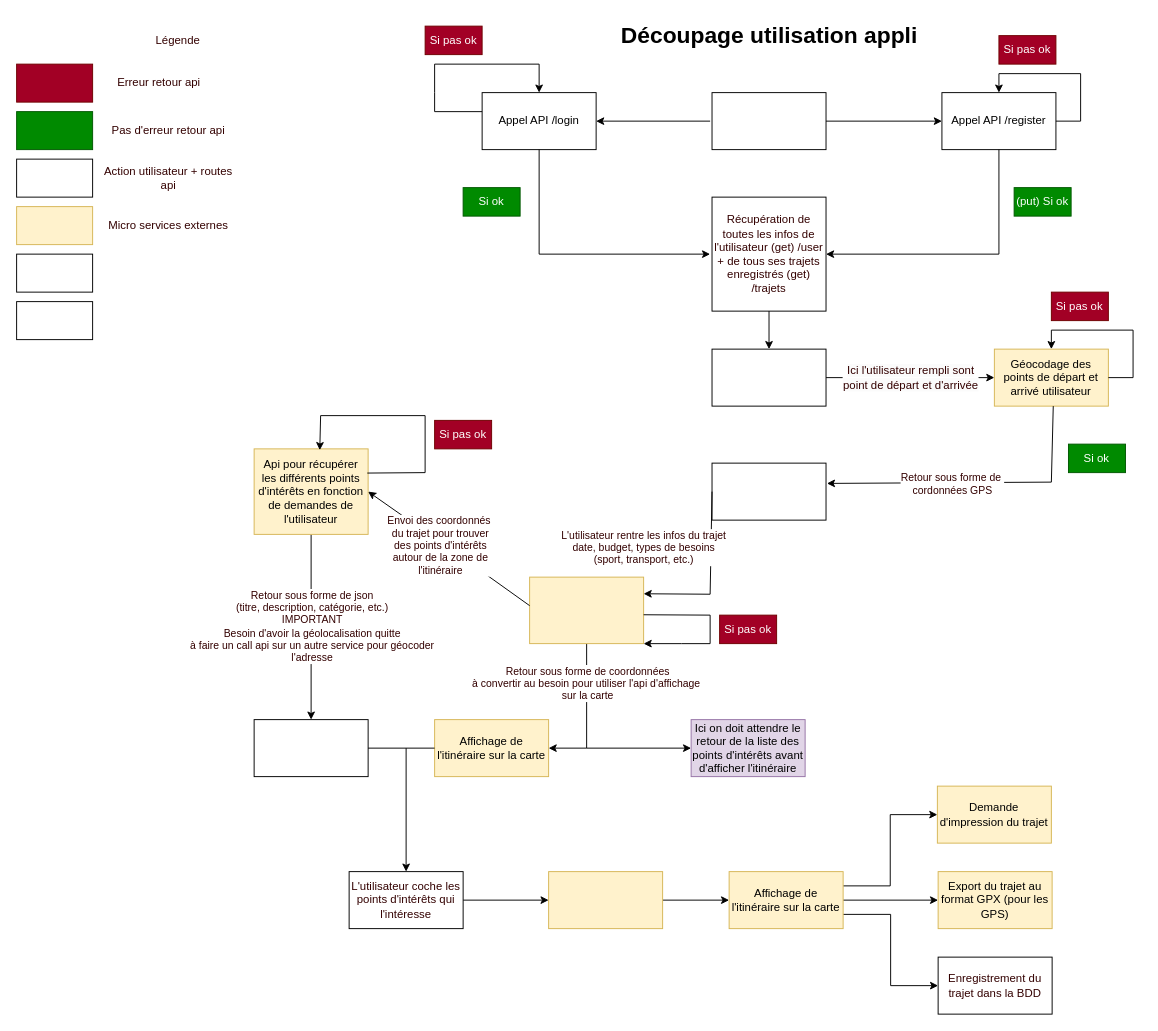
The diagram is 1158 pixels wide and 1031 high, and some of its shapes have lost their labels. The shapes that lost their labels are listed below. From the top down, each one's centre as x and y in pixels, then its label:
pixel 768 121: Connexion ou enregistrement
pixel 768 377: Demande nouvel itinéaire (post) /trajets
pixel 768 491: Affichage des noms et deux points rentrées par l'utilisateur
pixel 586 610: Maps box pour l'itinéraire
pixel 310 748: Affichage de la liste des points d'intérêts
pixel 605 900: Maps box pour l'itinéraire avec les nouveaux points
